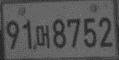1: (21, 18, 35, 49)
2: (98, 17, 112, 48)
5: (83, 17, 97, 47)
7: (67, 17, 80, 47)
8: (52, 19, 66, 49)
9: (5, 20, 20, 50)
머: (35, 24, 51, 49)
